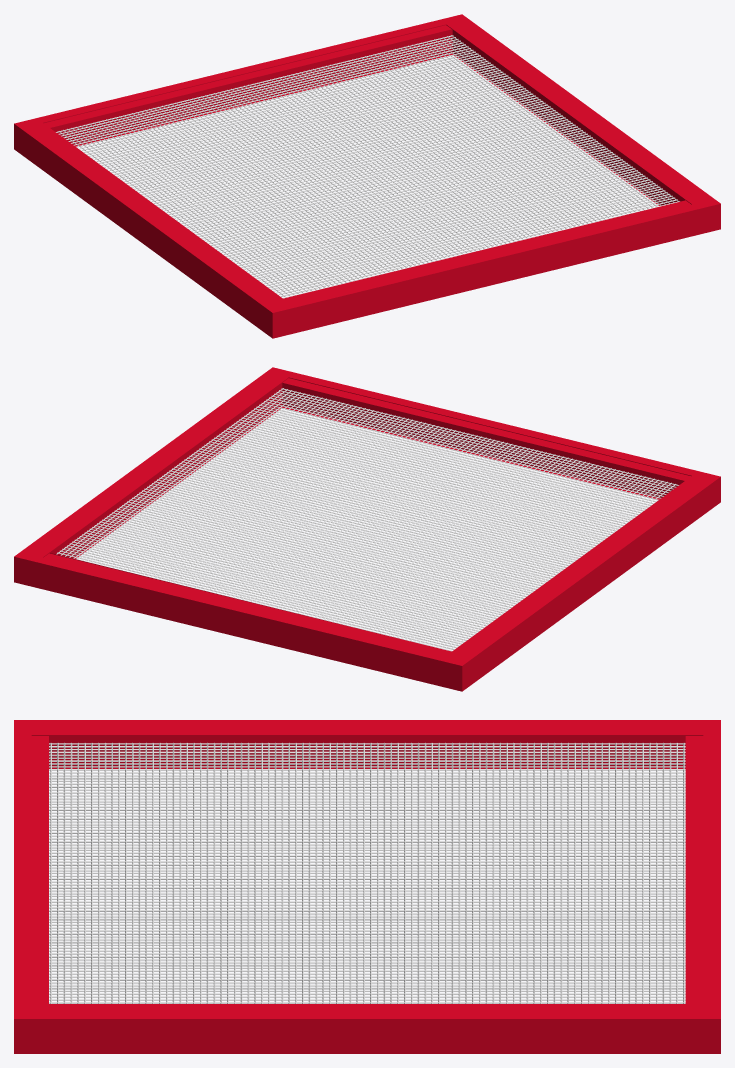
The model's file is QueenExcluder.fbx.
The picture shows the model from 3 angles, top to bottom: view 1: azimuth 30°, elevation 25°; view 2: azimuth 150°, elevation 25°; view 3: azimuth 270°, elevation 25°; orthographic projection. The views are drawn at different scales.
Visible parts, largest first — view 1: QueenExcludeBase; view 2: QueenExcludeBase; view 3: QueenExcludeBase.
Part boxes in pixels (box(x1,y1,x2,y2)): QueenExcludeBase: box(14, 14, 720, 338); QueenExcludeBase: box(14, 367, 720, 691); QueenExcludeBase: box(14, 720, 720, 1053).
Size of the model in its own units: 100 by 5.48 by 100.
